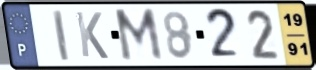2: (203, 6, 247, 64), (245, 8, 281, 61)
8: (161, 9, 194, 60)
I: (50, 8, 72, 63)
K: (73, 10, 111, 61)
M: (112, 6, 166, 64)
